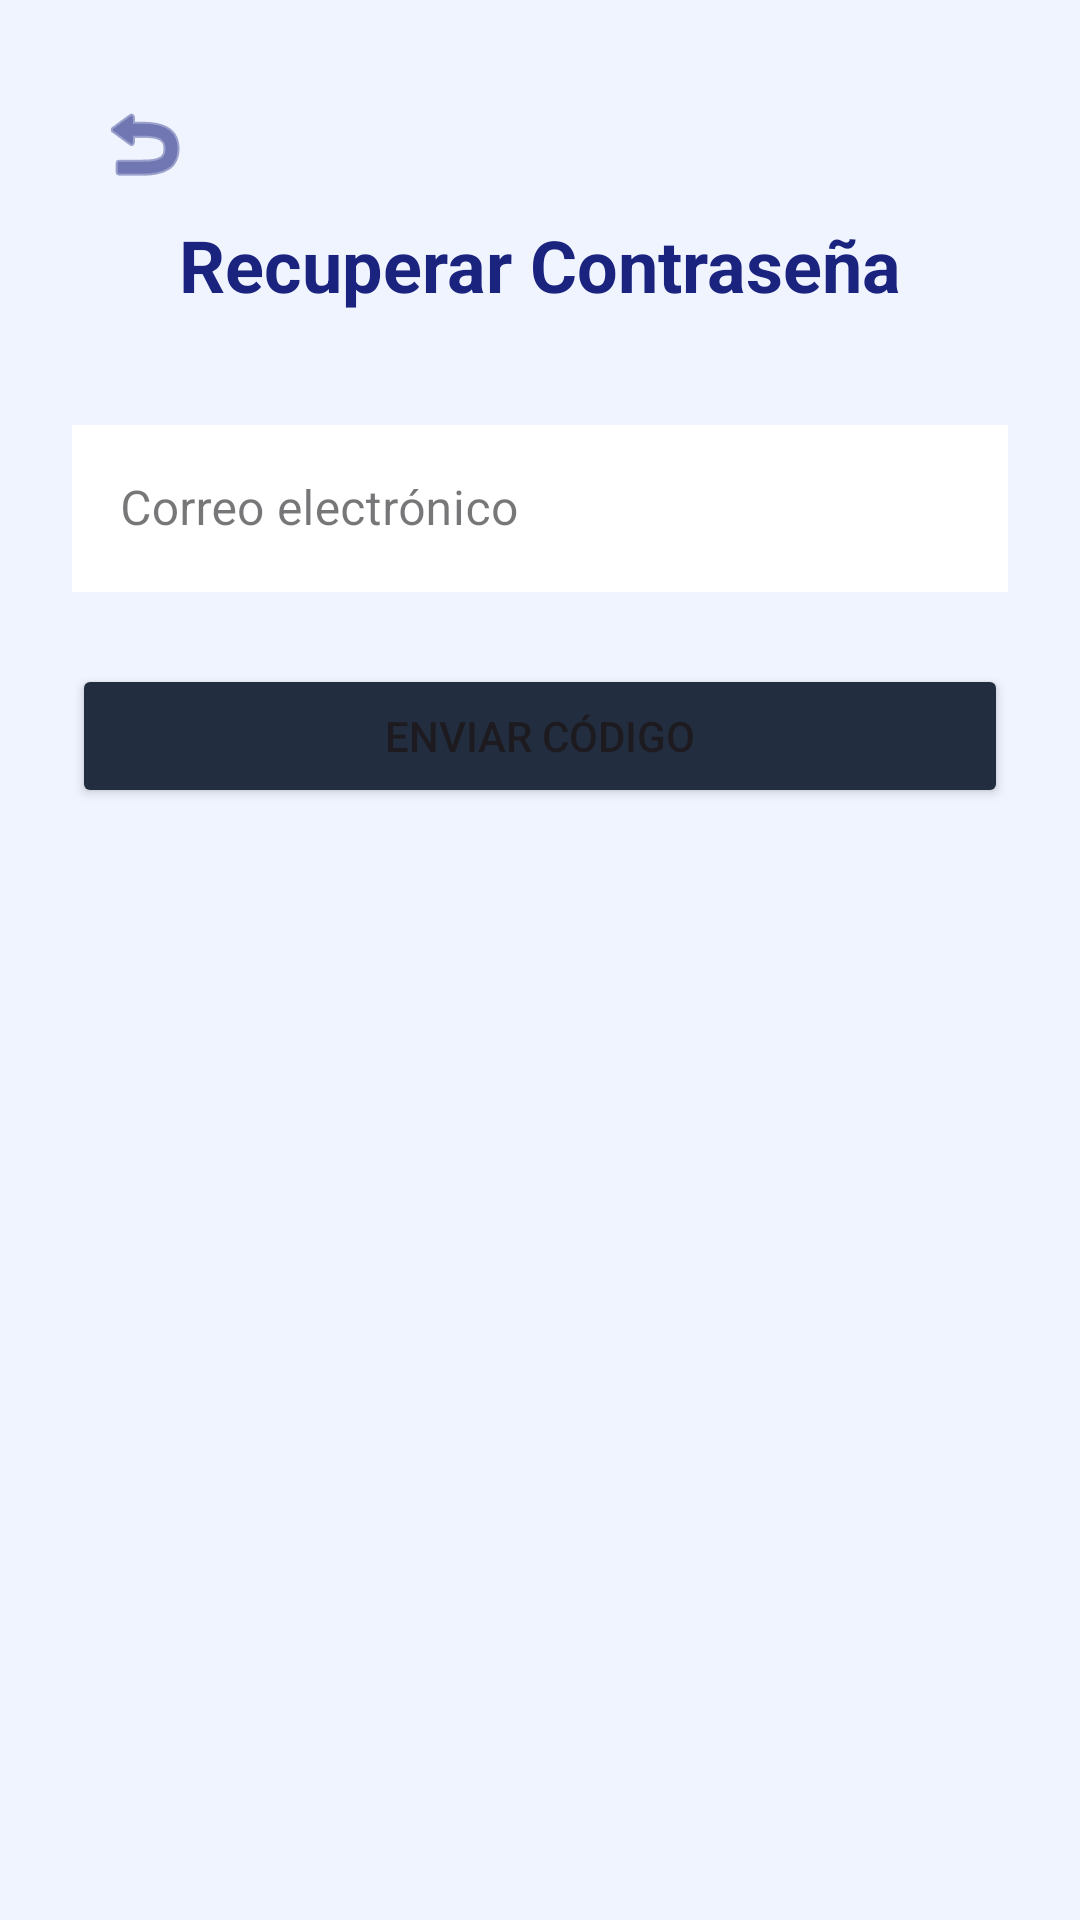

Locate icon controls on the screen. Image size 1080 x 1920, boxes as bbox=(x1, y1, x2, y2).
Volver: bbox=(111, 113, 180, 176)
